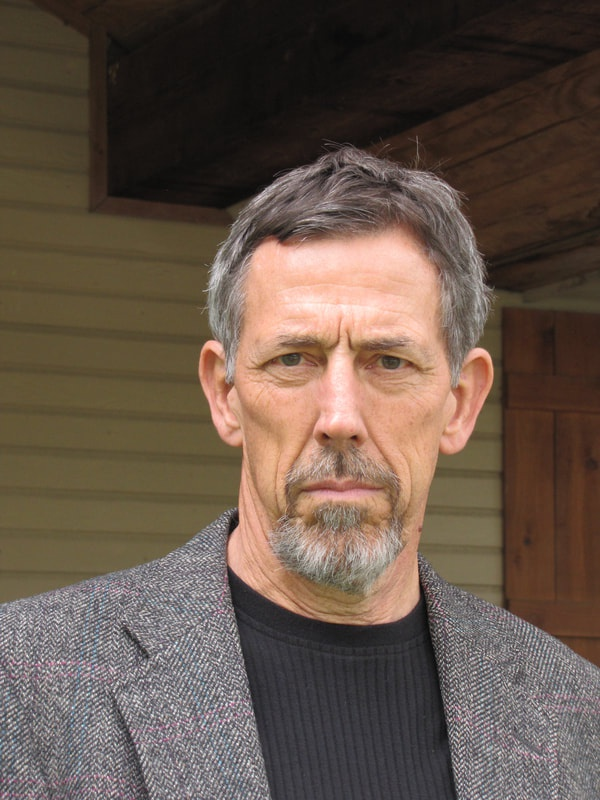bad: (200, 290, 468, 558), (282, 483, 411, 612)
